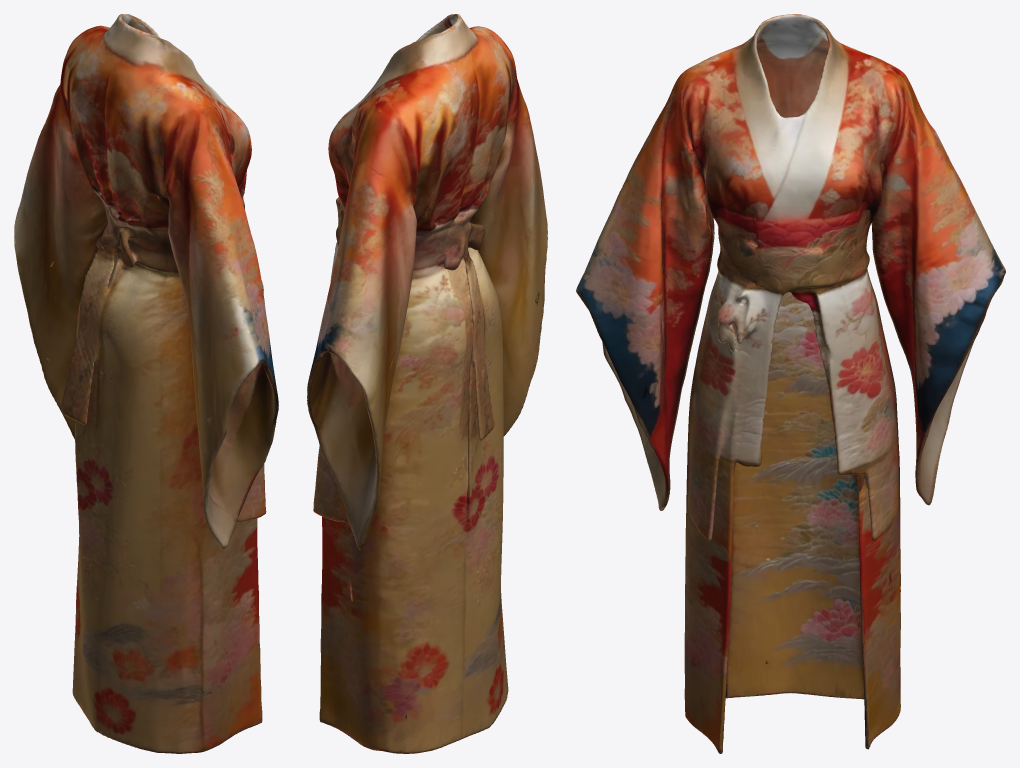
The model's file is kimono.glb.
3 renders of one model, left to right at view 1: azimuth 30°, elevation 25°; view 2: azimuth 150°, elevation 25°; view 3: azimuth 270°, elevation 25°, orthographic.
Bounding box in the file's own units: 0.7474 × 3.13 × 1.76.
Materials: 1 (1 with a texture image).
